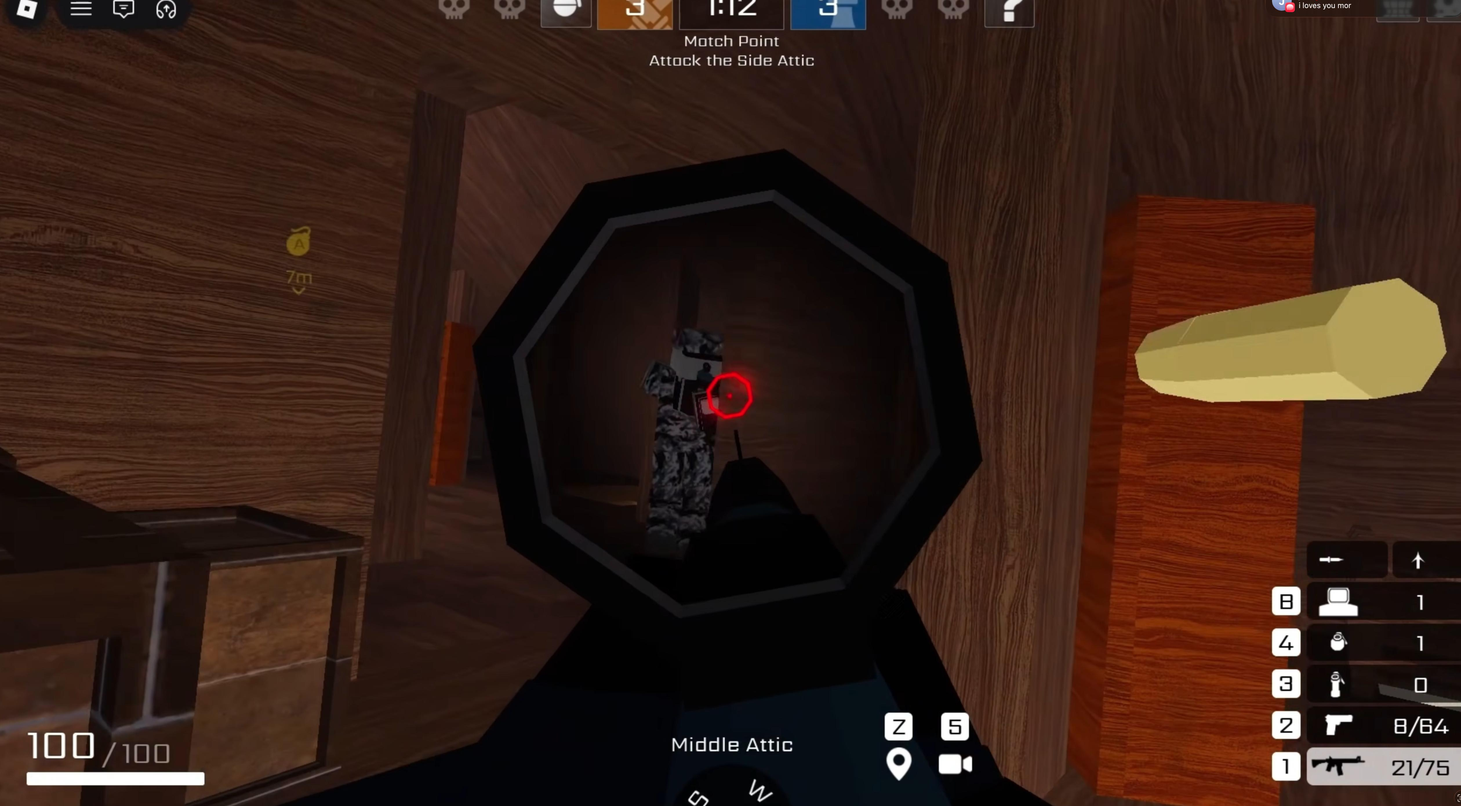enemy: (630, 321, 738, 553)
